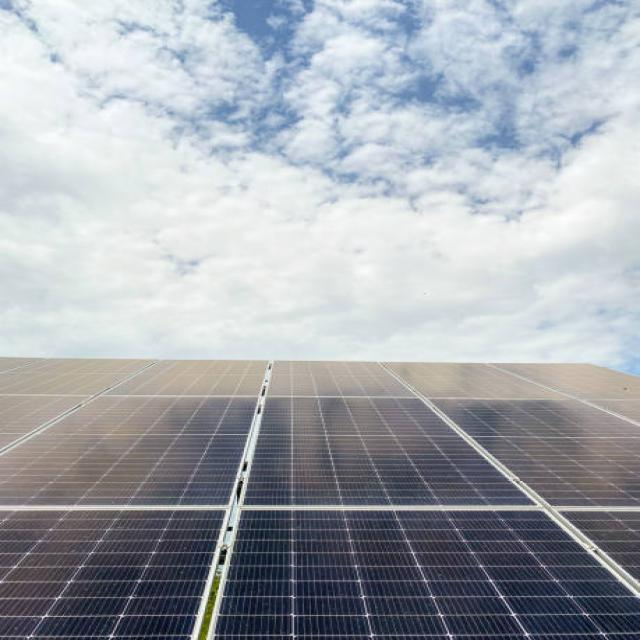dust-solar-panel: (0, 316, 640, 640)
